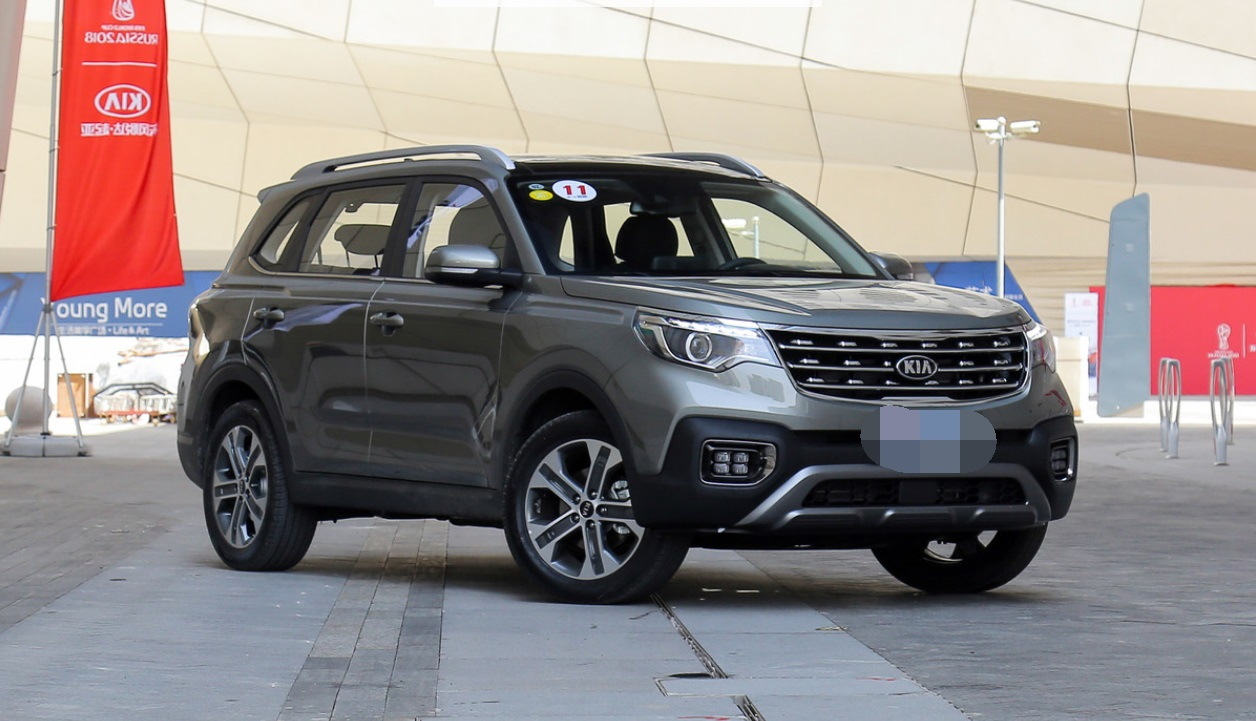SUV: (175, 142, 1083, 595)
